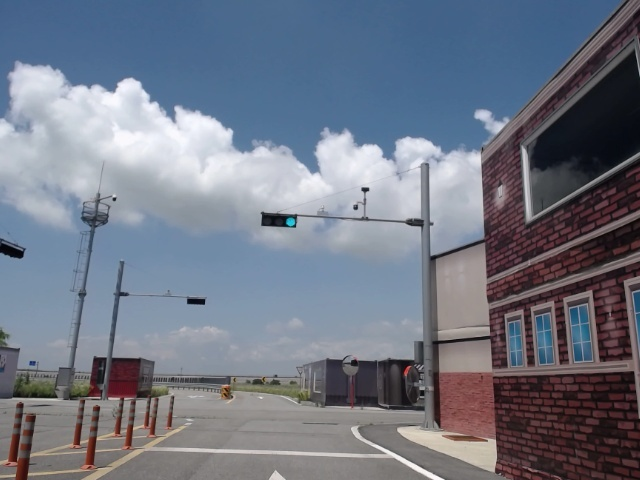green_3: (261, 211, 300, 229)
